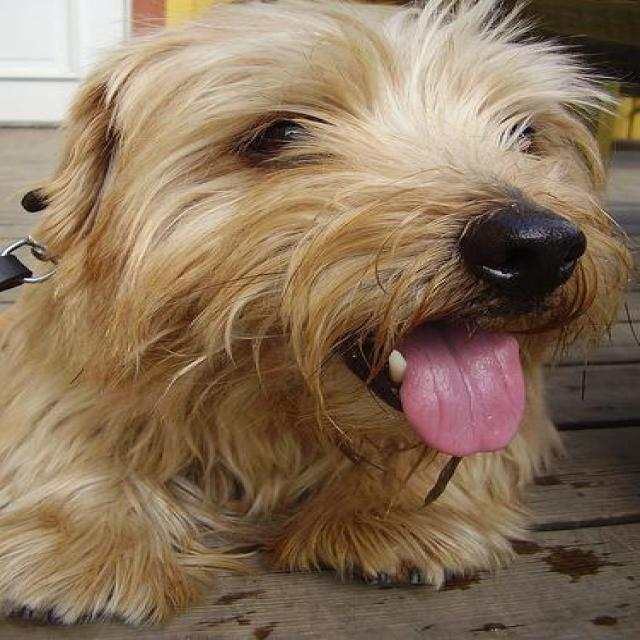dogs: (45, 6, 608, 627)
